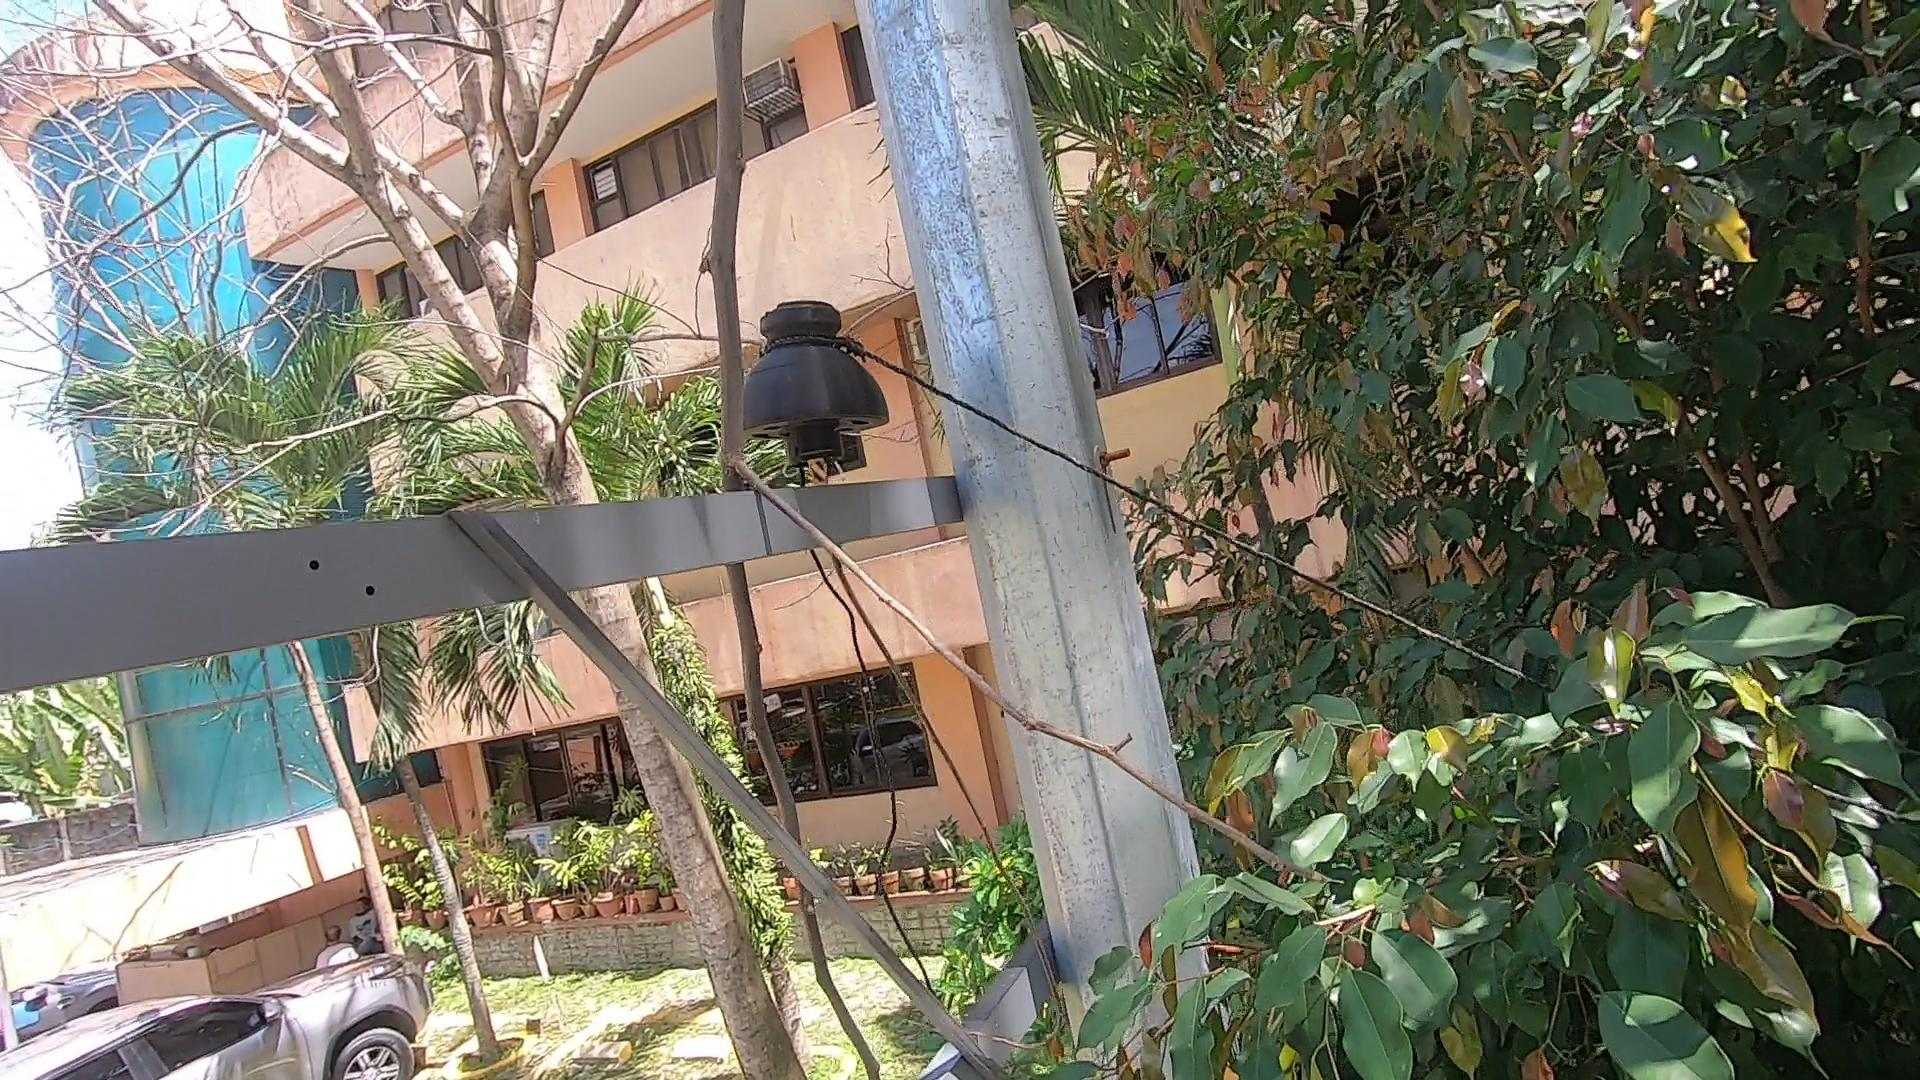tree branch: (638, 1, 927, 1080)
